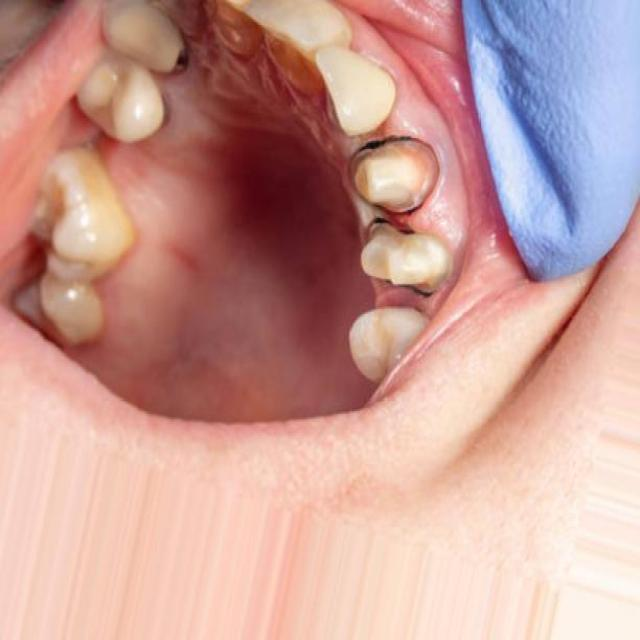caries: (342, 133, 441, 228), (363, 222, 452, 305), (161, 32, 194, 86)
